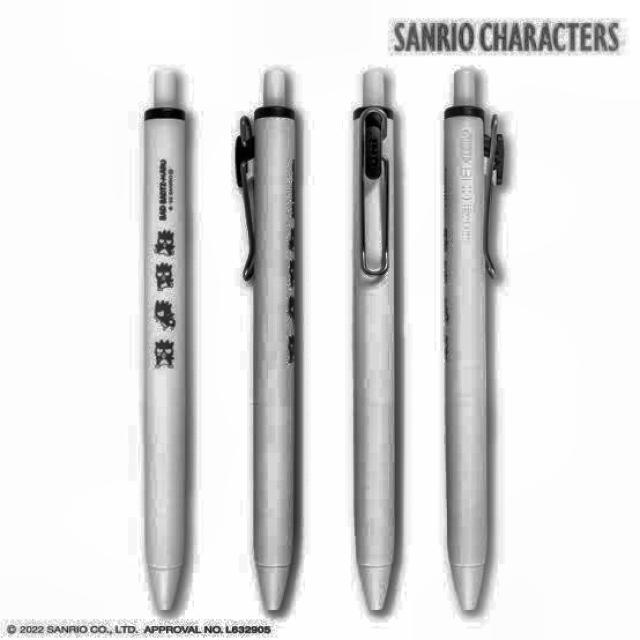Pen: (230, 66, 306, 620), (336, 62, 408, 614), (439, 65, 505, 626), (133, 67, 195, 616)
